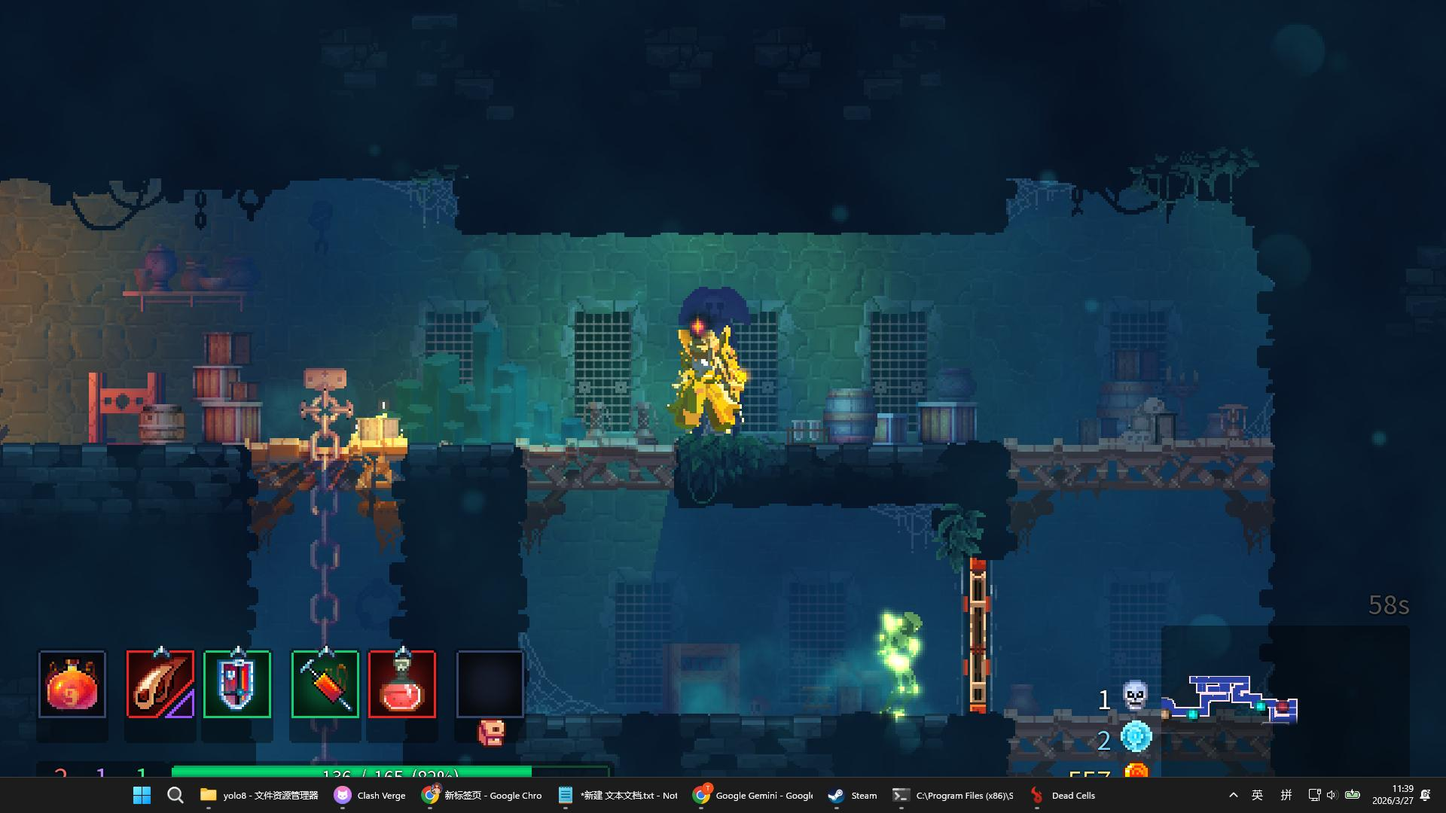gamer: (665, 313, 754, 440)
green1: (875, 597, 933, 718)
